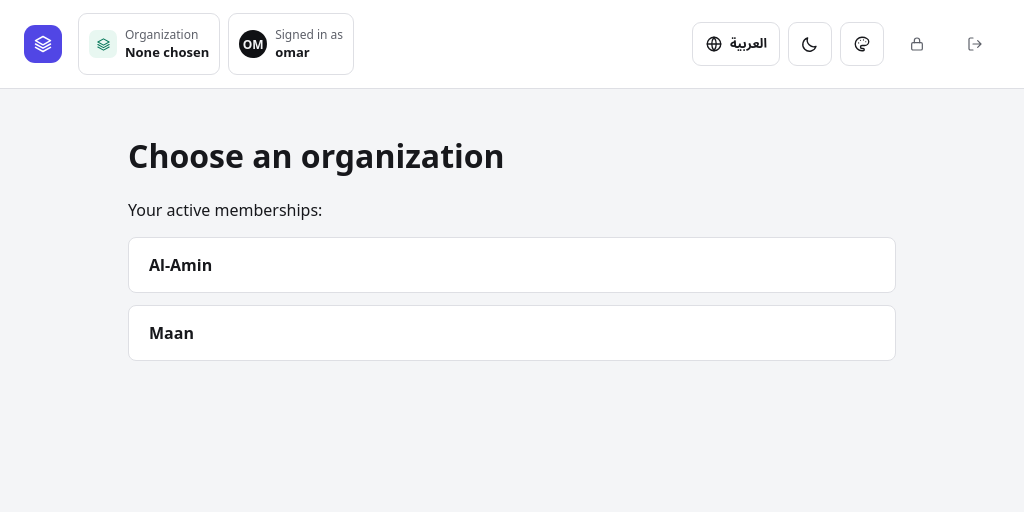
Test case: is reachable with no organization chosen, from the shell
Expected: the heading "Choose an organization" is shown, [128,134,505,177]
Click the link named "Change password": click(917, 44) [892,21,942,67]
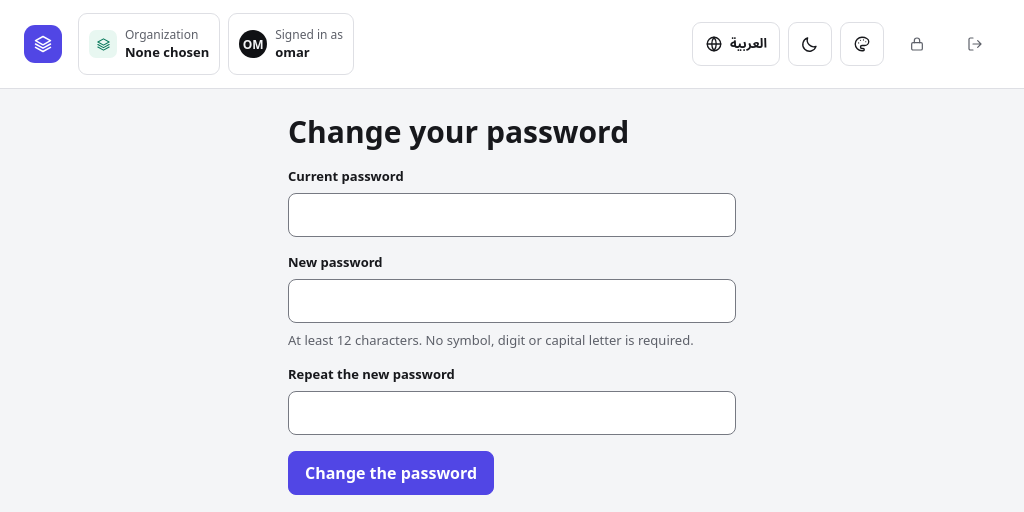
Expected: the heading "Change your password" is shown, [288,111,629,152]
